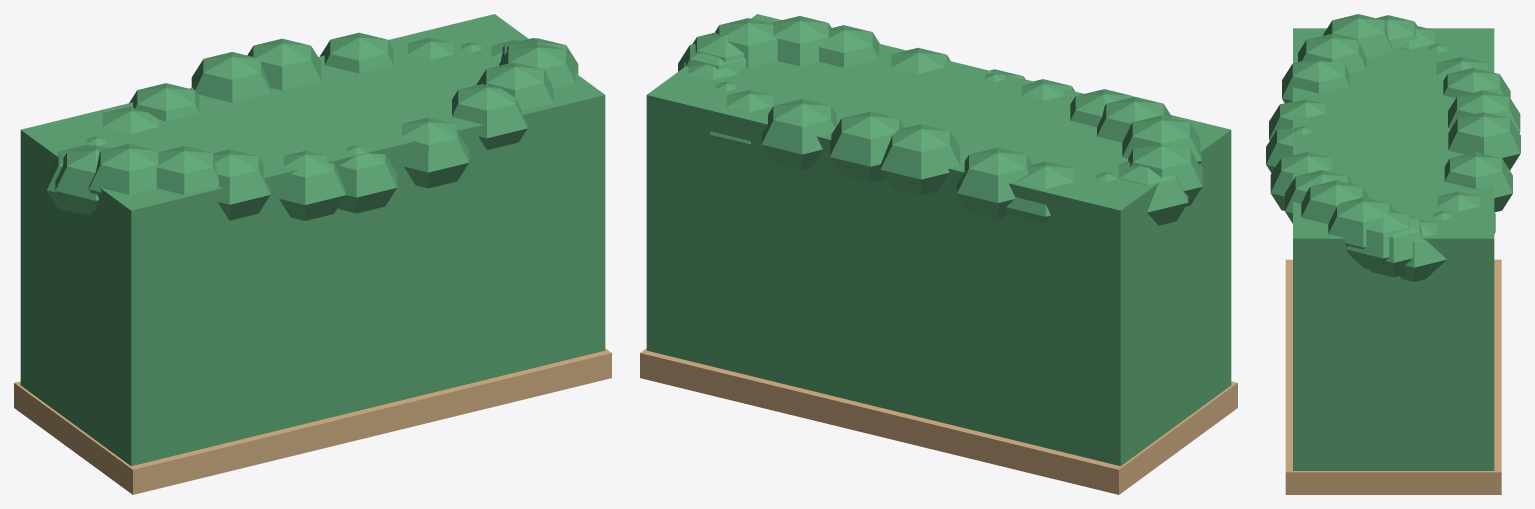
File: lawn-mowing-simulator-kit-hedge-block-2m-ec0f9b45.glb
3 renders of one model, left to right at view 1: azimuth 30°, elevation 25°; view 2: azimuth 150°, elevation 25°; view 3: azimuth 270°, elevation 25°, orthographic. The views are drawn at different scales.
Visible parts, largest first — view 1: hedge-block-2m; view 2: hedge-block-2m; view 3: hedge-block-2m.
Boxes of the visible parts, <box> form: hedge-block-2m: <box>14,14,611,494</box>; hedge-block-2m: <box>640,14,1237,494</box>; hedge-block-2m: <box>1266,14,1520,494</box>.
Size of the model in its own units: 2.18 by 1.23 by 1.01.
